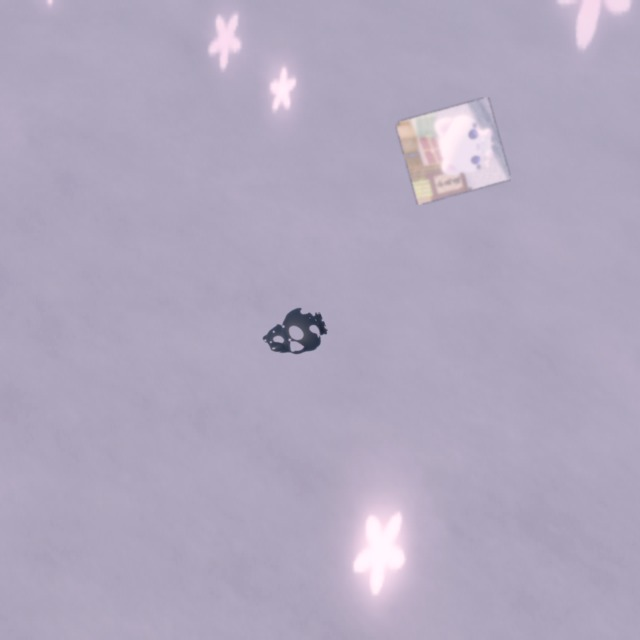urso_branco: (395, 97, 511, 205)
urso_preto: (251, 296, 334, 371)
